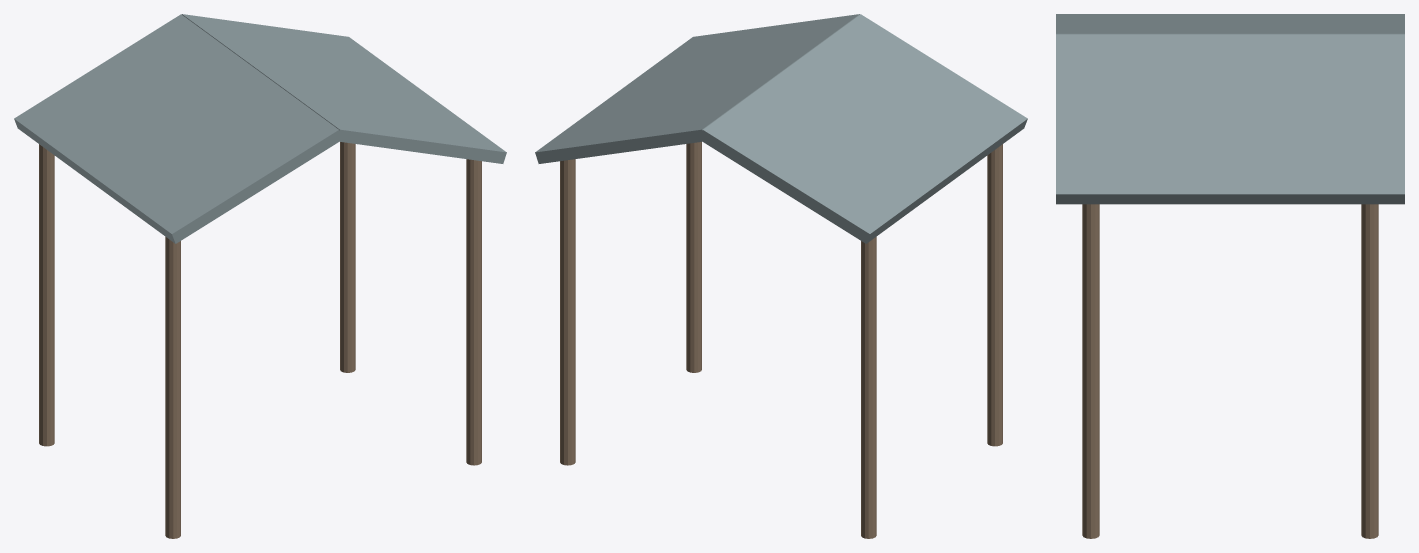
Rendered from AR-AWNING.glb.
3 renders of one model, left to right at view 1: azimuth 30°, elevation 25°; view 2: azimuth 150°, elevation 25°; view 3: azimuth 270°, elevation 25°, orthographic. The views are drawn at different scales.
Visible parts, largest first — view 1: roof_left, roof_right, post (×4); view 2: roof_left, roof_right, post (×4); view 3: roof_right, post (×2), roof_left.
Part boxes in pixels (x1,y1,x2,y2): roof_left: (14,14,342,243); roof_right: (182,14,506,163); post (×4): (39,142,481,538); roof_left: (699,14,1027,243); roof_right: (535,14,859,163); post (×4): (560,142,1002,538); roof_right: (1056,34,1404,204); post (×2): (1082,204,1378,538); roof_left: (1056,14,1404,34).
Size of the model in its own units: 2.45 by 2.66 by 2.
